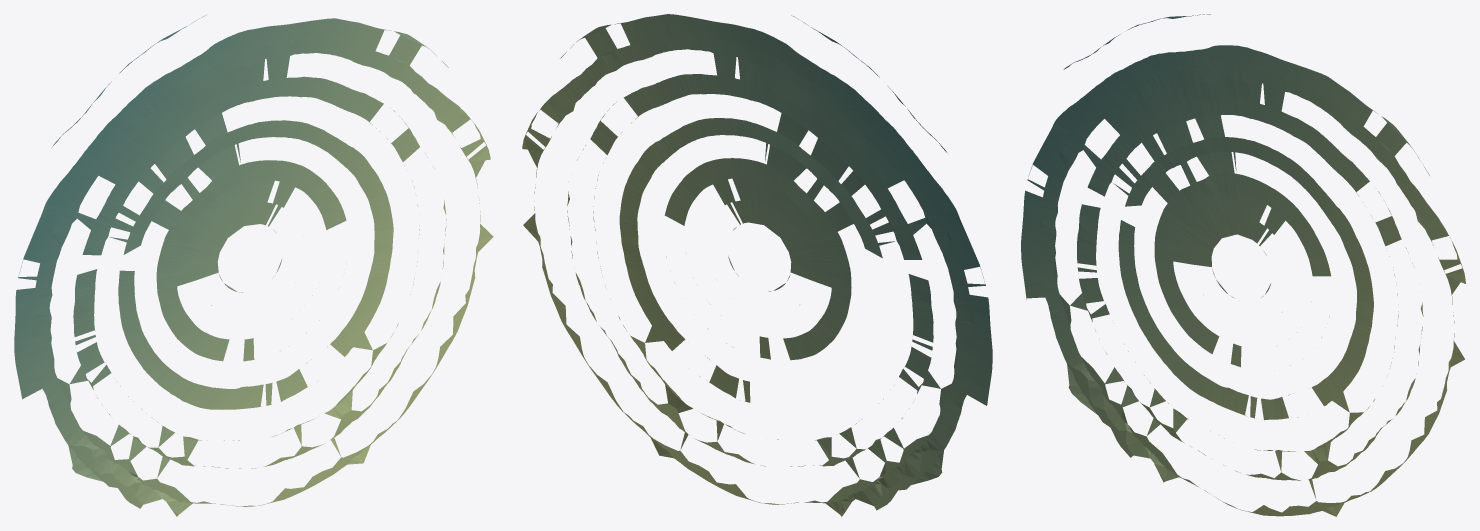
Rendered from iith-medium-slope.glb.
3 views of the same model, side by side, from view 1: azimuth 30°, elevation 25°; view 2: azimuth 150°, elevation 25°; view 3: azimuth 330°, elevation 25° (orthographic). The views are drawn at different scales.
Visible parts, largest first — view 1: geometry_0; view 2: geometry_0; view 3: geometry_0.
Part boxes in pixels (x1,y1,x2,y2): geometry_0: (14,15,493,516); geometry_0: (522,14,992,516); geometry_0: (1021,14,1465,516).
Bounding box in the file's own units: 52.67 × 53.02 × 2.91.
